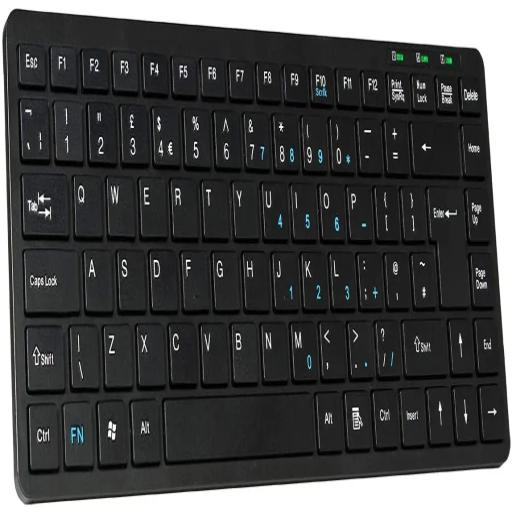KEYBOARD-2: (3, 11, 512, 500)
